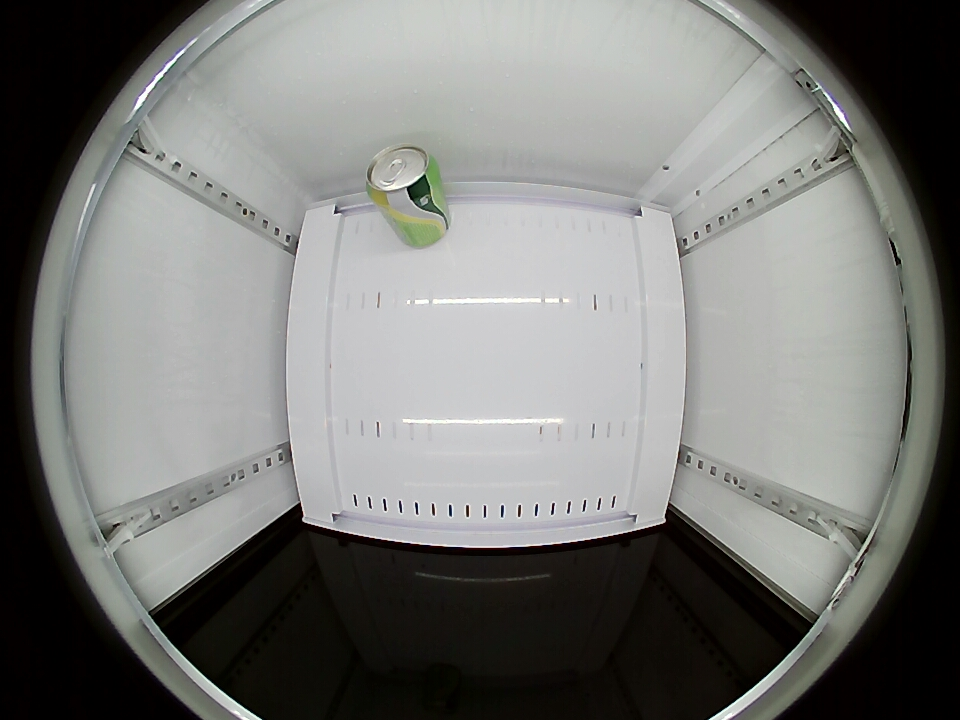quchenshixiangcao: (365, 145, 441, 208)
